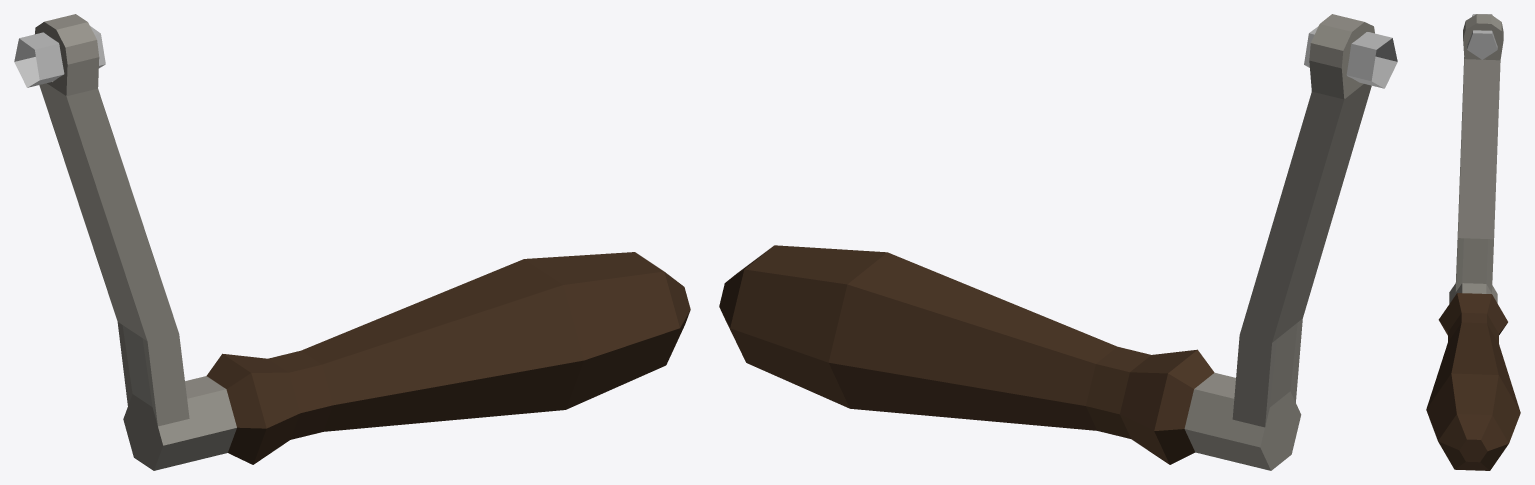
Rendered from Prop_Maneta.fbx.
3 views of the same model, side by side, from view 1: azimuth 30°, elevation 25°; view 2: azimuth 150°, elevation 25°; view 3: azimuth 270°, elevation 25° (orthographic). The views are drawn at different scales.
Visible parts, largest first — view 1: Cylinder.018, Cylinder.057; view 2: Cylinder.018, Cylinder.057; view 3: Cylinder.018, Cylinder.057.
Part boxes in pixels (x1,y1,x2,y2): Cylinder.018: [35, 14, 690, 470]; Cylinder.057: [14, 26, 105, 87]; Cylinder.018: [719, 14, 1374, 470]; Cylinder.057: [1304, 26, 1397, 88]; Cylinder.018: [1426, 14, 1520, 470]; Cylinder.057: [1467, 14, 1497, 59].
Bounding box in the file's own units: 12.17 × 8.73 × 2.56.
